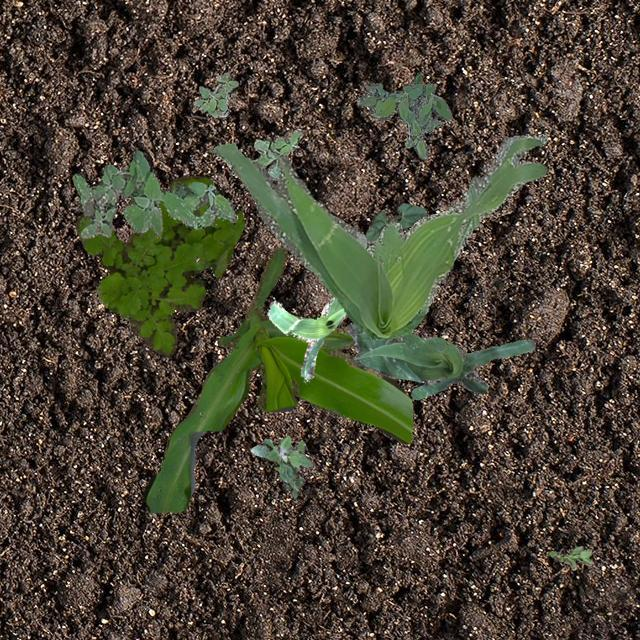crop: (142, 248, 412, 512), (346, 322, 534, 398), (266, 296, 346, 380), (364, 202, 426, 240)
weed: (210, 133, 546, 340), (75, 174, 244, 354), (72, 150, 236, 238), (356, 72, 450, 158), (250, 434, 312, 498), (252, 128, 300, 180), (192, 72, 238, 116), (548, 546, 592, 568)
